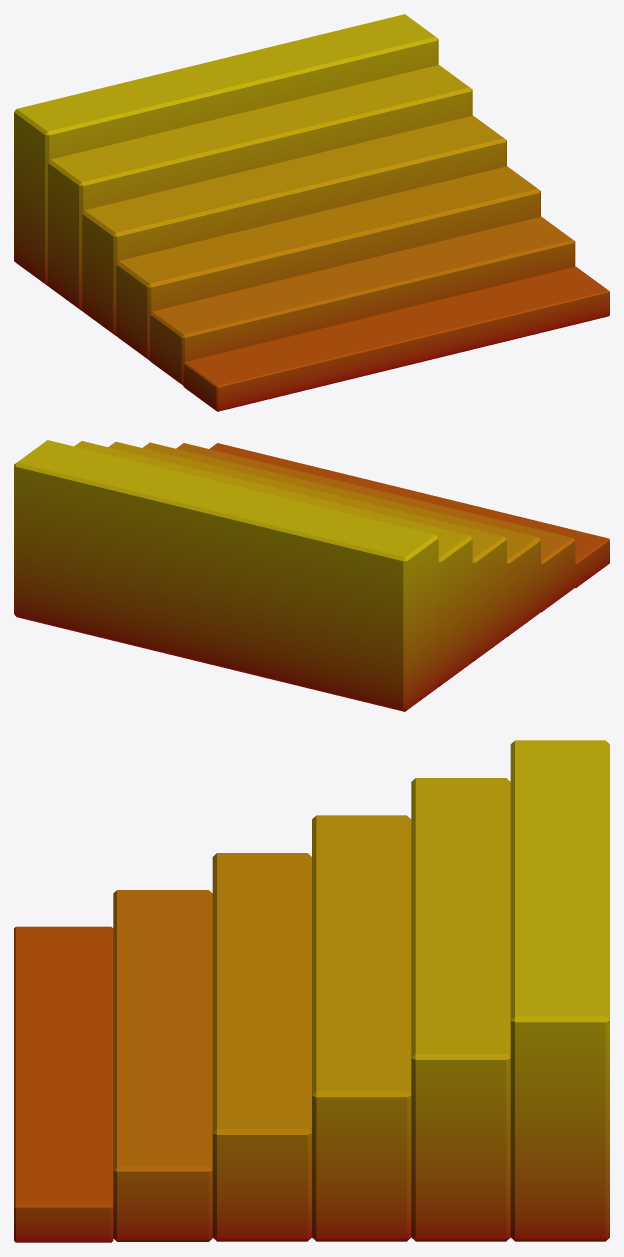
Rendered from steps.glb.
3 views of the same model, one above another, from view 1: azimuth 30°, elevation 25°; view 2: azimuth 150°, elevation 25°; view 3: azimuth 270°, elevation 25° (orthographic). The views are drawn at different scales.
Parts seen in each view (by area): view 1: steps; view 2: steps; view 3: steps.
Part boxes in pixels (x1,y1,x2,y2): steps: (14,14,609,411); steps: (14,440,609,711); steps: (14,740,609,1242).
Size of what is drawn, in the model's own units: 4 by 1.5 by 3.6.
